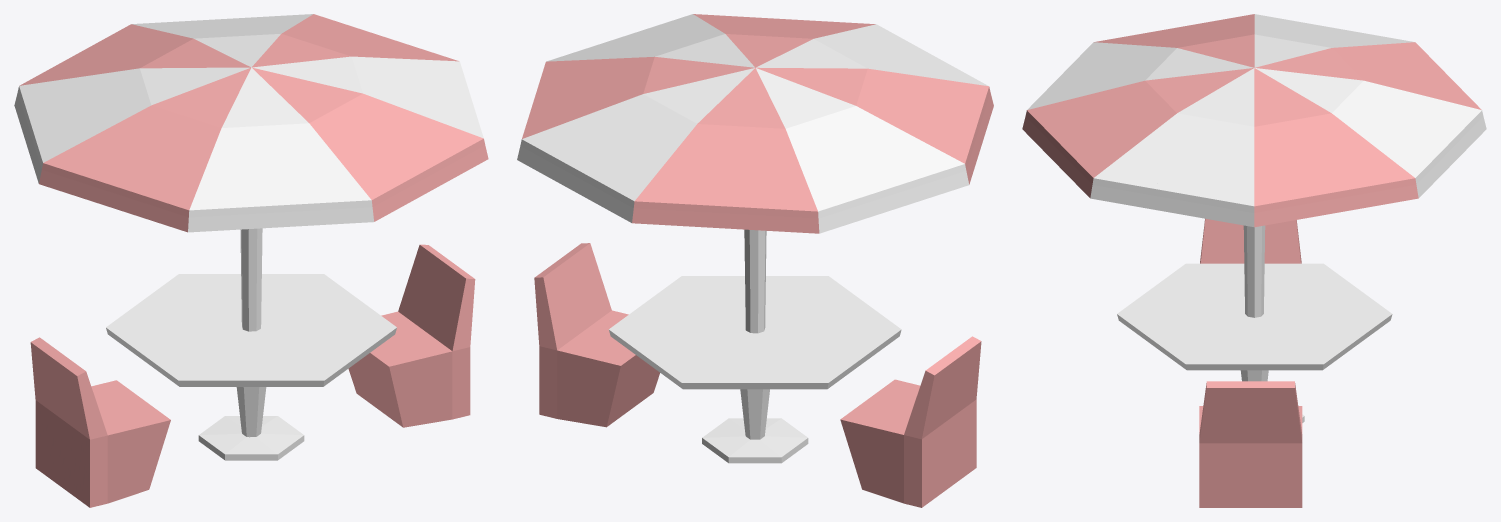
File: TischMitSchirm.fbx
The picture shows the model from 3 angles, left to right: view 1: azimuth 30°, elevation 25°; view 2: azimuth 150°, elevation 25°; view 3: azimuth 270°, elevation 25°; orthographic projection. The views are drawn at different scales.
Parts seen in each view (by area): view 1: Disc.003, Disc, Disc.1, Cube.16, Cube; view 2: Disc.003, Disc, Disc.1, Cube.16, Cube; view 3: Disc.003, Disc, Disc.1, Cube, Cube.16.
Part boxes in pixels (box(x1,y1,x2,y2)): Disc.003: box(14, 14, 483, 437); Disc: box(19, 14, 488, 232); Disc.1: box(106, 274, 396, 460); Cube.16: box(30, 337, 170, 507); Cube: box(348, 244, 475, 427); Disc.003: box(517, 14, 988, 437); Disc: box(522, 14, 993, 233); Disc.1: box(608, 276, 901, 463); Cube.16: box(840, 336, 981, 507); Cube: box(534, 243, 659, 427); Disc.003: box(1027, 14, 1486, 317); Disc: box(1022, 14, 1481, 227); Disc.1: box(1117, 263, 1392, 422); Cube: box(1199, 381, 1302, 507); Cube.16: box(1200, 218, 1301, 263).
Bounding box in the file's own units: 651 × 547 × 651.
